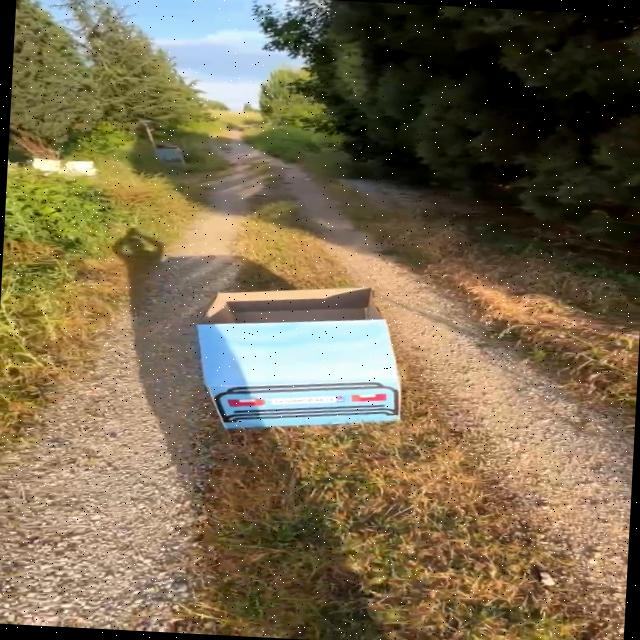blue_car: (135, 234, 479, 472)
